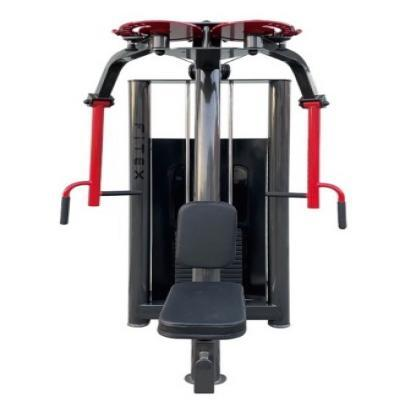chest fly machine: (44, 16, 362, 403)
